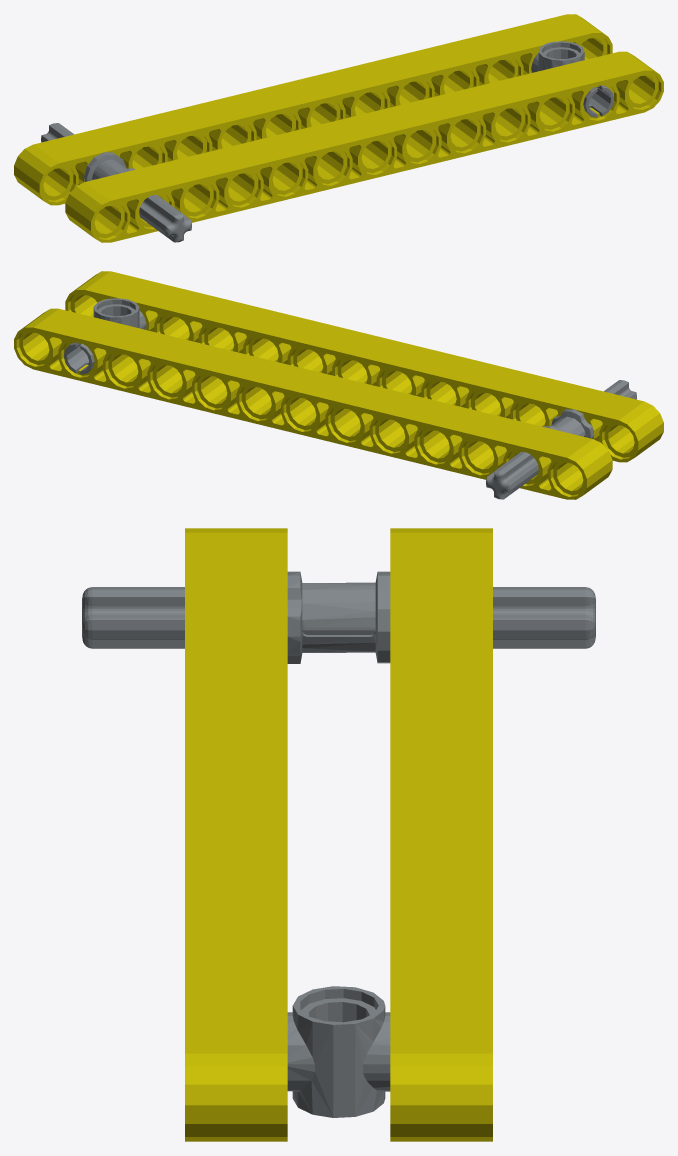
The model's file is Arm4.fbx.
3 views of the same model, one above another, from view 1: azimuth 30°, elevation 25°; view 2: azimuth 150°, elevation 25°; view 3: azimuth 270°, elevation 25° (orthographic). The views are drawn at different scales.
Visible parts, largest first — view 1: Arm4; view 2: Arm4; view 3: Arm4.
Part boxes in pixels (x1,y1,x2,y2): Arm4: (14, 14, 663, 242); Arm4: (14, 271, 663, 499); Arm4: (82, 528, 595, 1141).
Size of the model in its own units: 10.3 by 0.8 by 4.
